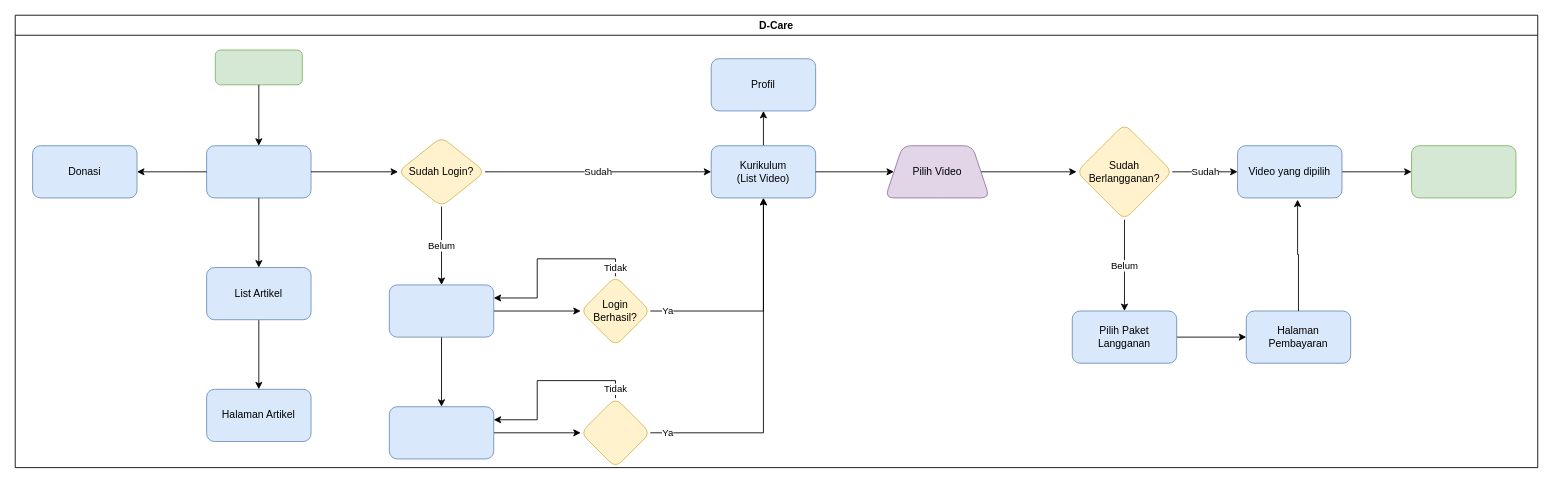
This 1553x483 diagram has some shape labels left out. The shapes that lost their labels are listed below. From the top down, each one's centre as x and y in pixels, then its label:
the point at 258,67: Start
the point at 258,171: Landing Page
the point at 1463,171: Selesai
the point at 441,310: Login
the point at 441,432: Register
the point at 615,432: Register Berhasil?
